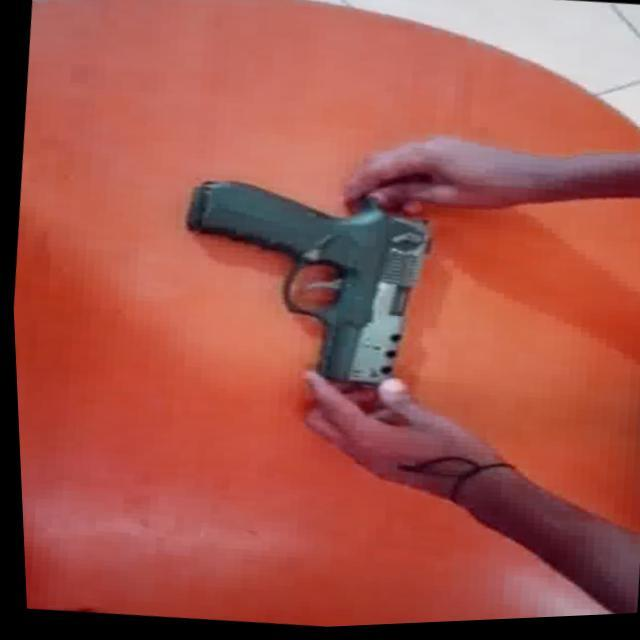weapon: (161, 169, 442, 438)
